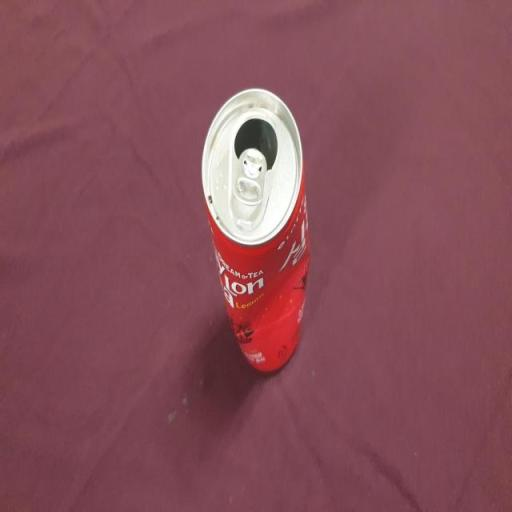metal: (185, 58, 332, 408)
